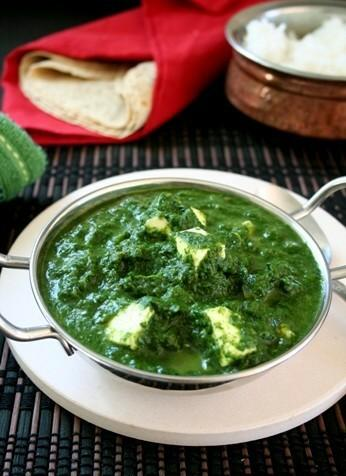PalakPaneer: (42, 181, 323, 376)
